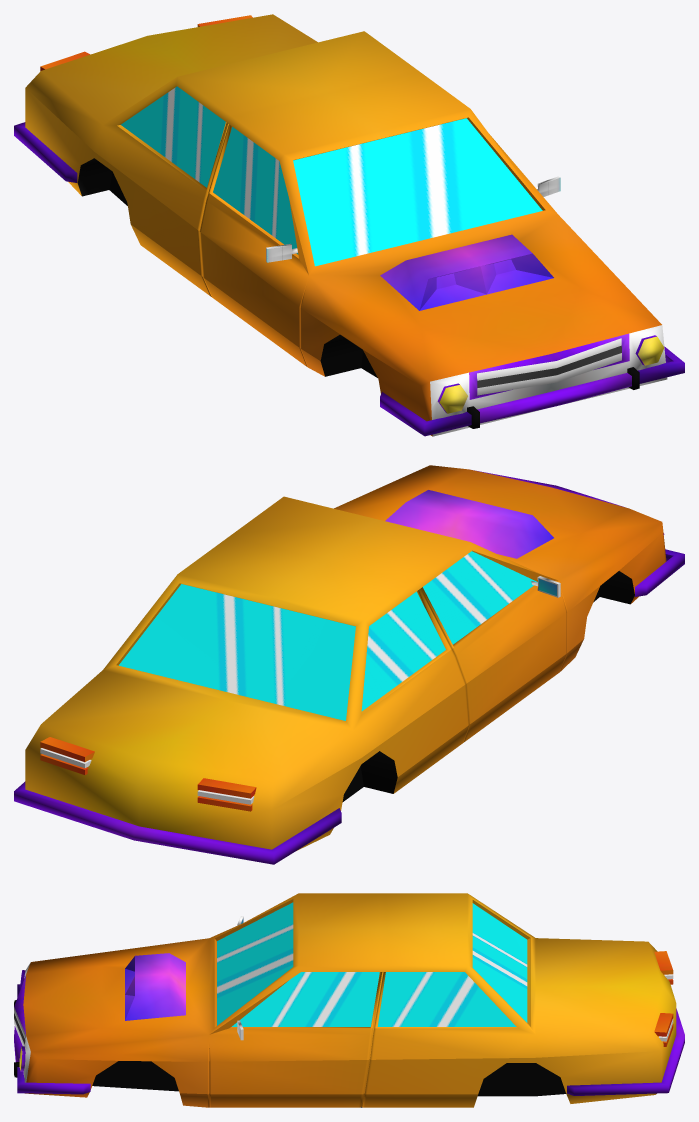
File: Car_3.fbx
3 views of the same model, one above another, from view 1: azimuth 30°, elevation 25°; view 2: azimuth 150°, elevation 25°; view 3: azimuth 270°, elevation 25° (orthographic). The views are drawn at different scales.
Parts seen in each view (by area): view 1: Car_3; view 2: Car_3; view 3: Car_3.
Part boxes in pixels (bbox=[...]): Car_3: bbox=[14, 14, 684, 436]; Car_3: bbox=[14, 465, 684, 864]; Car_3: bbox=[14, 893, 684, 1107].
Size of the model in its own units: 242 by 129 by 603.
2 materials, 2 textured.
